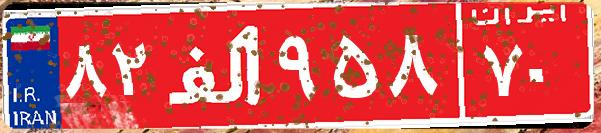0: (525, 38, 570, 115)
2: (110, 28, 158, 105)
5: (330, 28, 385, 110)
7: (475, 38, 525, 113)
8: (385, 28, 445, 110), (57, 26, 110, 107)
9: (273, 28, 330, 110)
الف: (158, 15, 273, 115)
